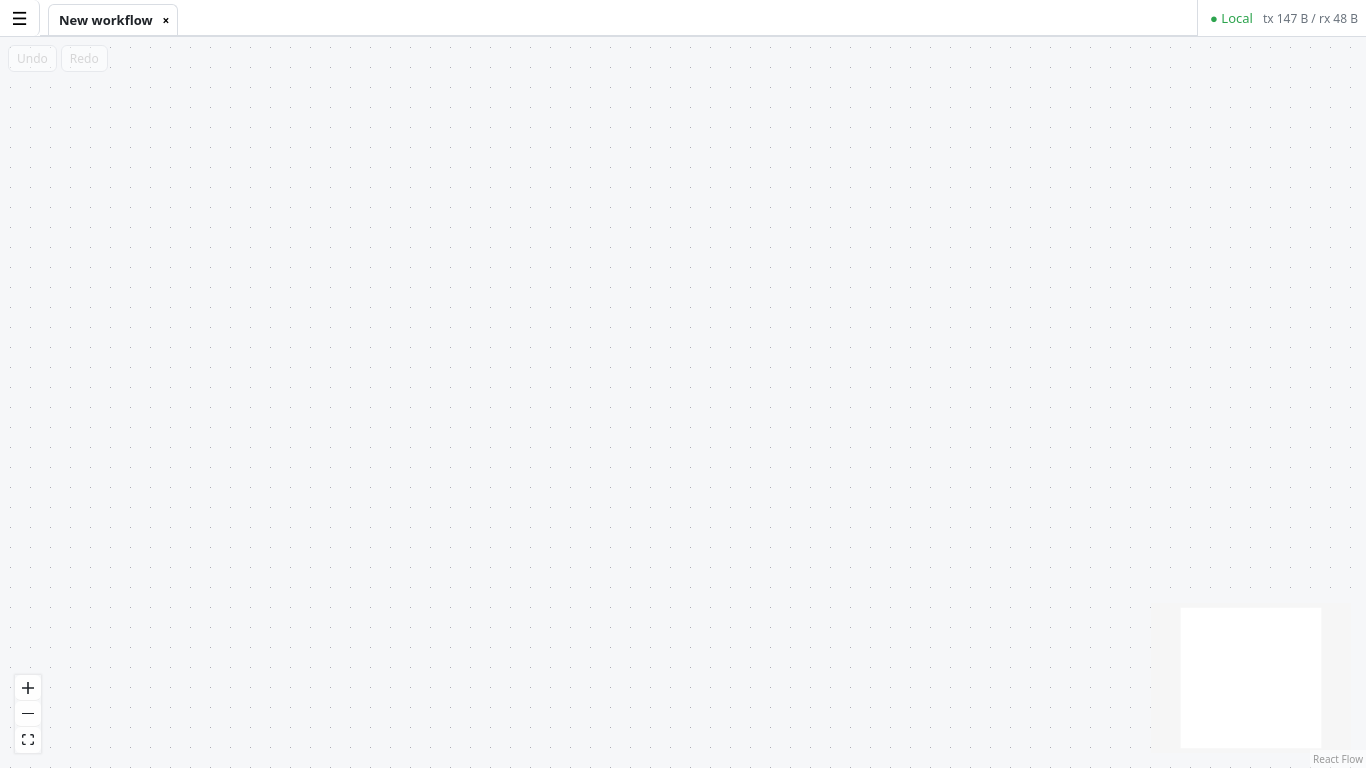
список workflow и вкладки › создание workflow открывает его во вкладке (FR-031)
Click the button named "Menu" at (20,18), box [0, 0, 40, 36]
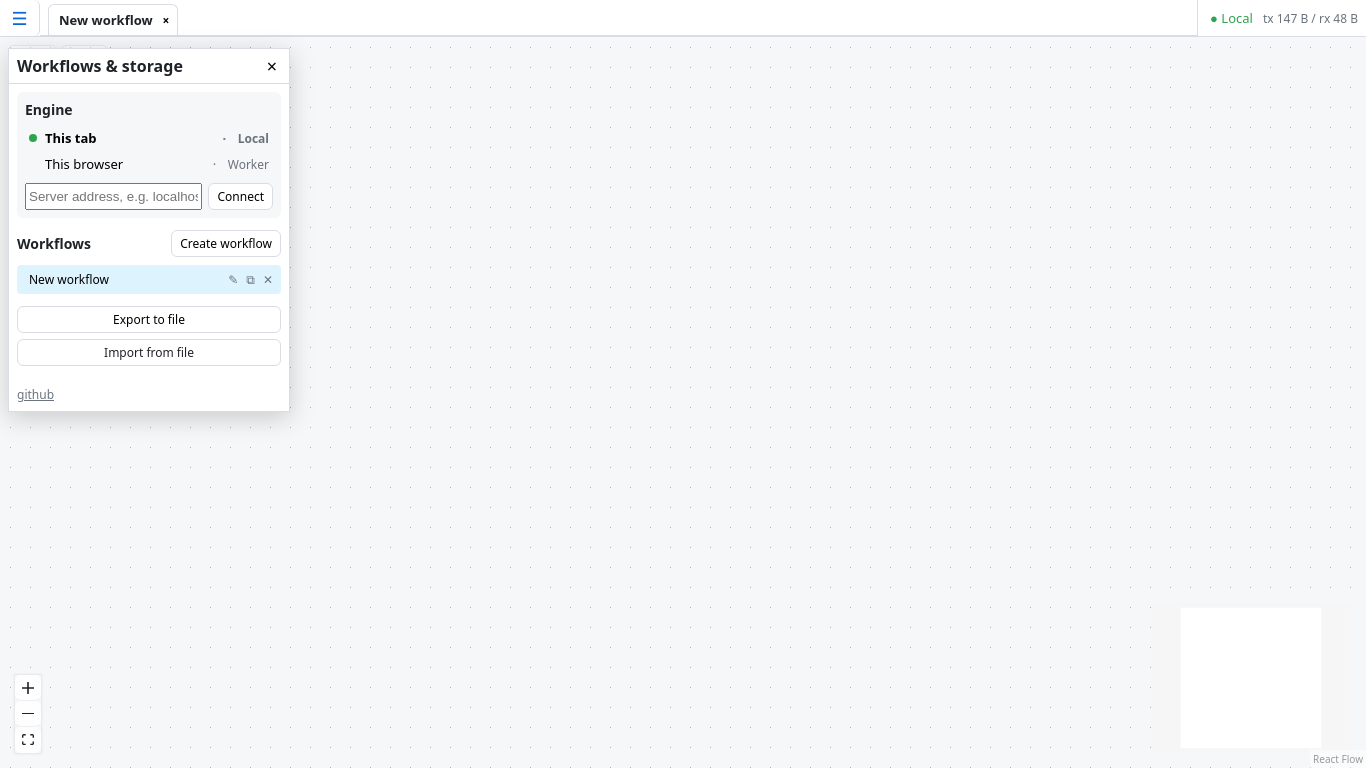
Click the button "Create workflow" at (226,244), box [171, 230, 281, 257]
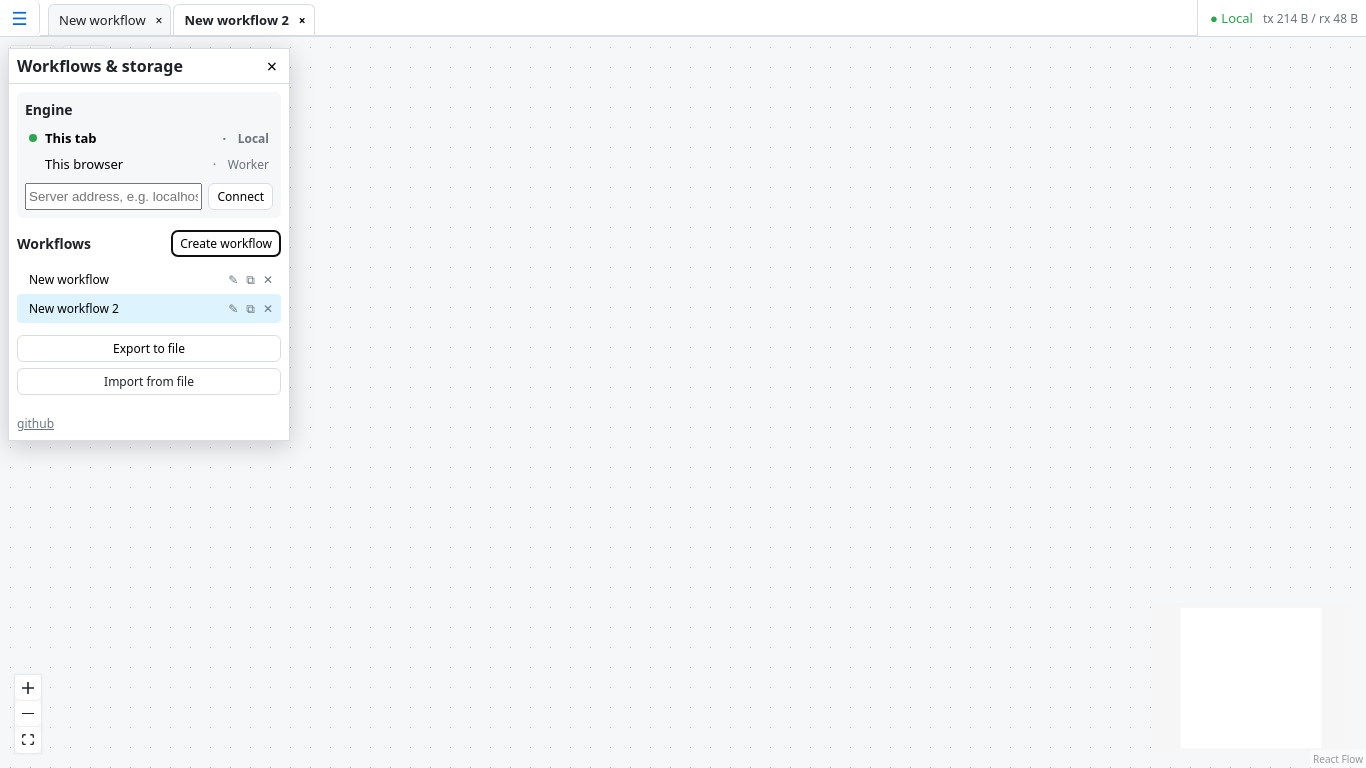
Now the number of tabs is 2, box [59, 11, 146, 29]; [184, 11, 289, 29]
Now the tab "New workflow 2" is shown, box [184, 11, 289, 29]
